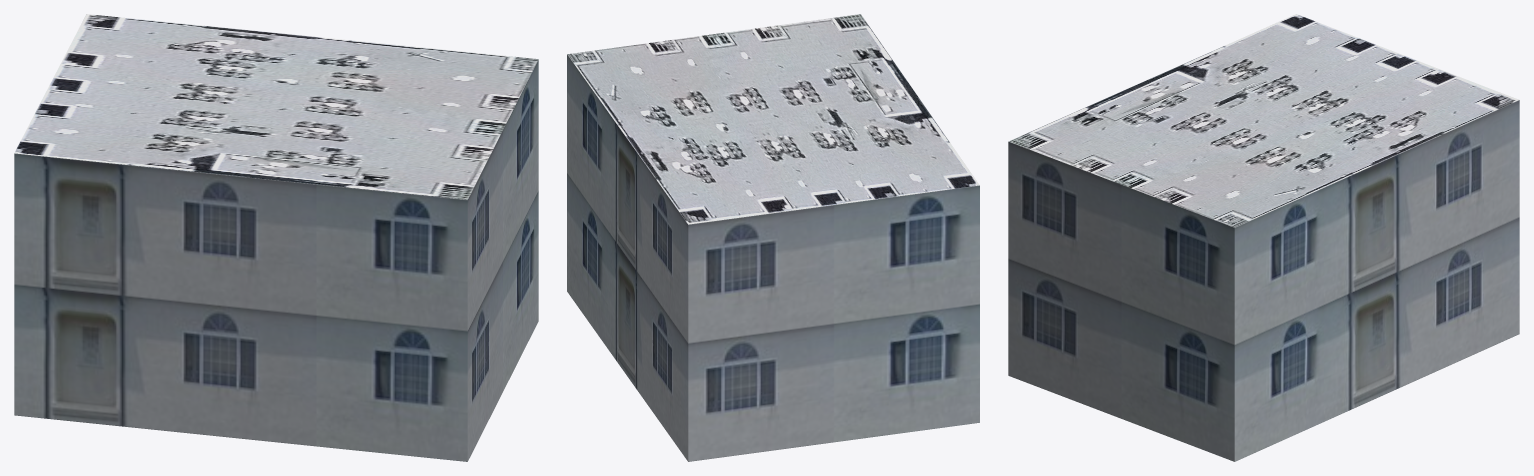
File: ResTex__1702.fbx
3 renders of one model, left to right at view 1: azimuth 30°, elevation 25°; view 2: azimuth 150°, elevation 25°; view 3: azimuth 270°, elevation 25°, orthographic. The views are drawn at different scales.
Parts seen in each view (by area): view 1: CityEngineMaterial_17_m, CityEngineMaterial_8_m; view 2: CityEngineMaterial_17_m, CityEngineMaterial_8_m; view 3: CityEngineMaterial_17_m, CityEngineMaterial_8_m.
Boxes of the visible parts, x1=… form: CityEngineMaterial_17_m: x1=14, y1=60, x2=538, y2=461; CityEngineMaterial_8_m: x1=14, y1=14, x2=538, y2=199; CityEngineMaterial_17_m: x1=567, y1=54, x2=979, y2=461; CityEngineMaterial_8_m: x1=567, y1=14, x2=979, y2=224; CityEngineMaterial_17_m: x1=1008, y1=100, x2=1519, y2=461; CityEngineMaterial_8_m: x1=1009, y1=14, x2=1518, y2=227.
Size of the model in its own units: 11.74 by 6 by 11.87.
2 materials, 2 textured.
